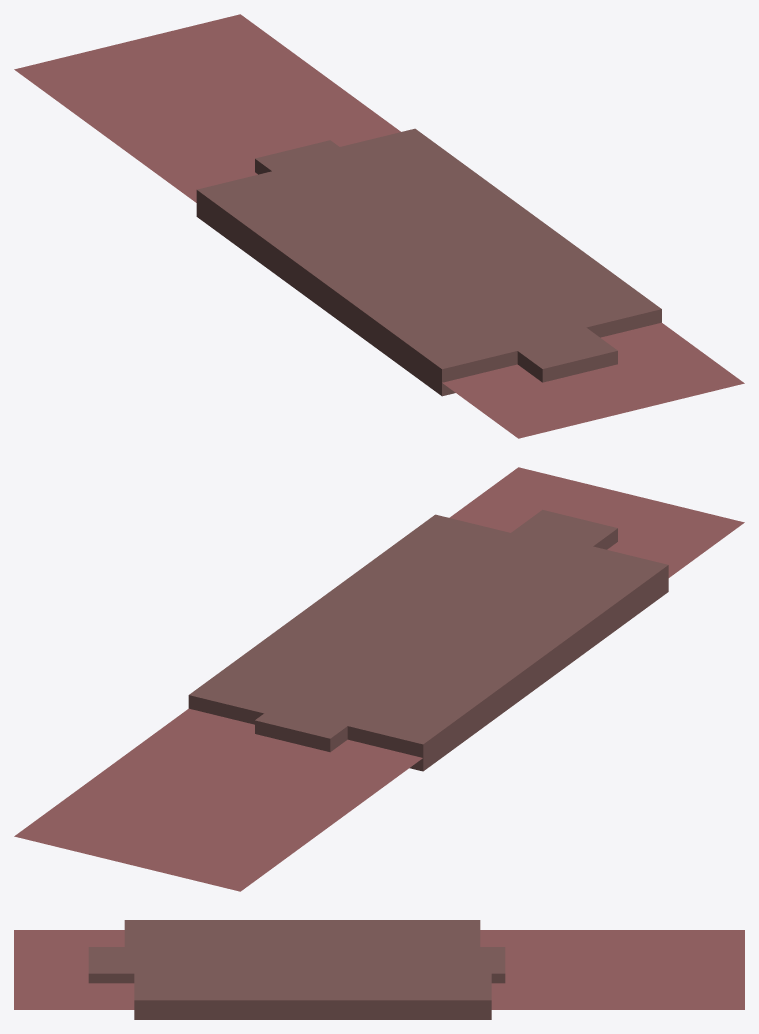
File: Tile_Magma_05.fbx
3 views of the same model, one above another, from view 1: azimuth 30°, elevation 25°; view 2: azimuth 150°, elevation 25°; view 3: azimuth 270°, elevation 25° (orthographic). The views are drawn at different scales.
Parts seen in each view (by area): view 1: pCube37, pPlane10; view 2: pCube37, pPlane10; view 3: pCube37, pPlane10.
Part boxes in pixels (x1,y1,x2,y2): pCube37: (196, 128, 661, 396); pPlane10: (14, 14, 744, 438); pCube37: (188, 509, 668, 771); pPlane10: (14, 467, 744, 891); pCube37: (88, 920, 505, 1019); pPlane10: (14, 930, 744, 1009).
Bounding box in the file's own units: 35 × 4 × 135.
